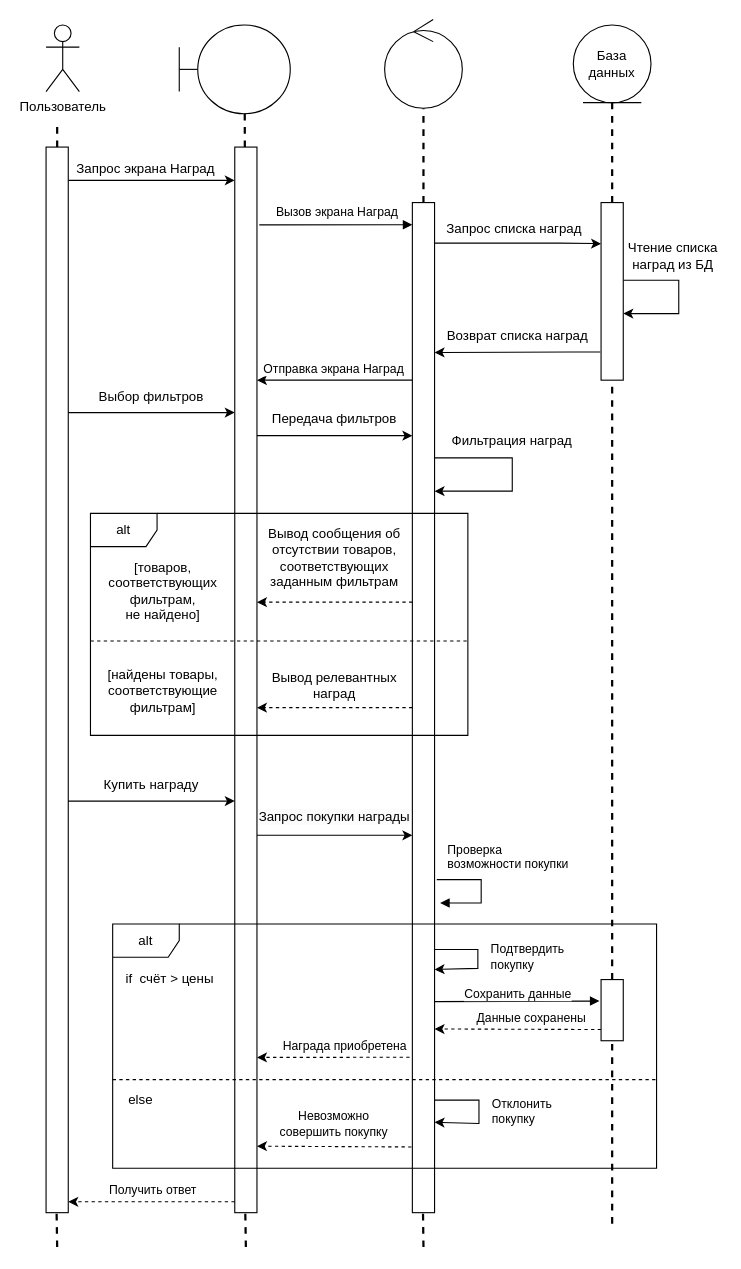
Image size: 741x1269. Some labels were removed from this diagram. Each missing label, with the box of its shape:
Пользова- тельский интерфейс: (178, 24, 290, 114)
Серверная часть: (384, 18, 462, 108)
